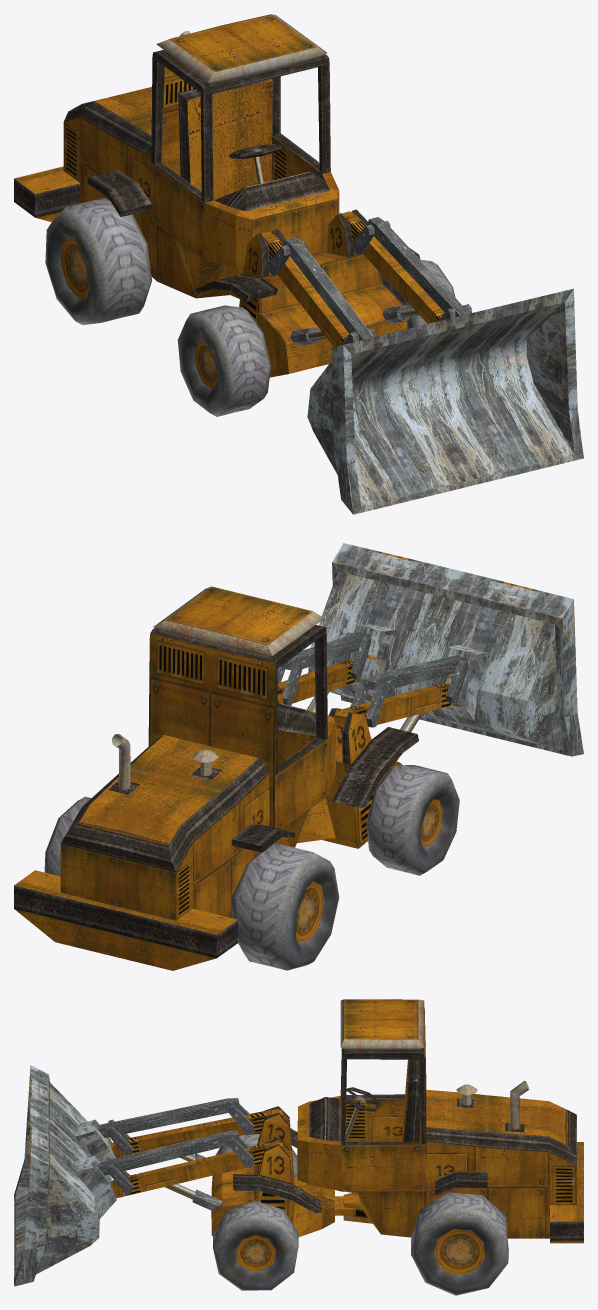
File: Model_Misc_Bulldozer.fbx
The picture shows the model from 3 angles, top to bottom: view 1: azimuth 30°, elevation 25°; view 2: azimuth 150°, elevation 25°; view 3: azimuth 270°, elevation 25°; orthographic projection. The views are drawn at different scales.
Parts seen in each view (by area): view 1: Car_Body, RB_Wheel, RF_Wheel, LF_Wheel; view 2: Car_Body, RB_Wheel, RF_Wheel, LB_Wheel; view 3: Car_Body, LB_Wheel, LF_Wheel, RF_Wheel.
Boxes of the visible parts, bbox=[...] form: Car_Body: bbox=[14, 14, 583, 514]; RB_Wheel: bbox=[45, 198, 151, 325]; RF_Wheel: bbox=[177, 305, 271, 416]; LF_Wheel: bbox=[380, 260, 455, 328]; Car_Body: bbox=[14, 543, 583, 970]; RB_Wheel: bbox=[231, 843, 339, 970]; RF_Wheel: bbox=[366, 765, 459, 875]; LB_Wheel: bbox=[44, 796, 90, 876]; Car_Body: bbox=[14, 999, 583, 1286]; LB_Wheel: bbox=[411, 1192, 508, 1295]; LF_Wheel: bbox=[213, 1200, 298, 1290]; RF_Wheel: bbox=[216, 1134, 297, 1177].
Size of the model in its own units: 330 by 365 by 810.
